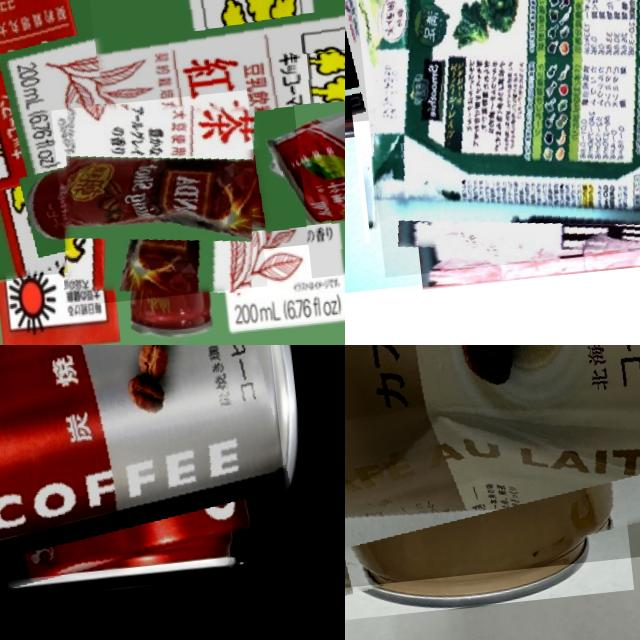Aluminium Foil: (346, 0, 640, 277), (83, 0, 345, 264), (0, 0, 209, 286)
Can: (345, 345, 640, 595), (0, 345, 291, 585), (51, 90, 268, 306), (288, 32, 345, 277), (345, 0, 436, 134)
